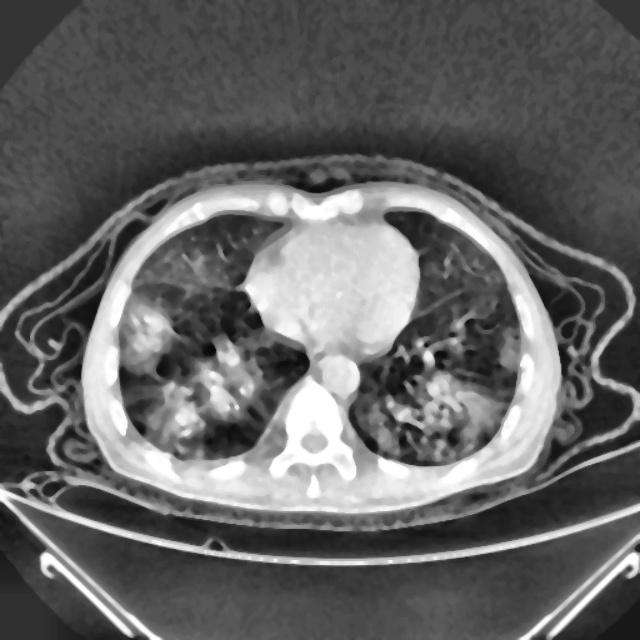covid: (80, 179, 561, 518)
